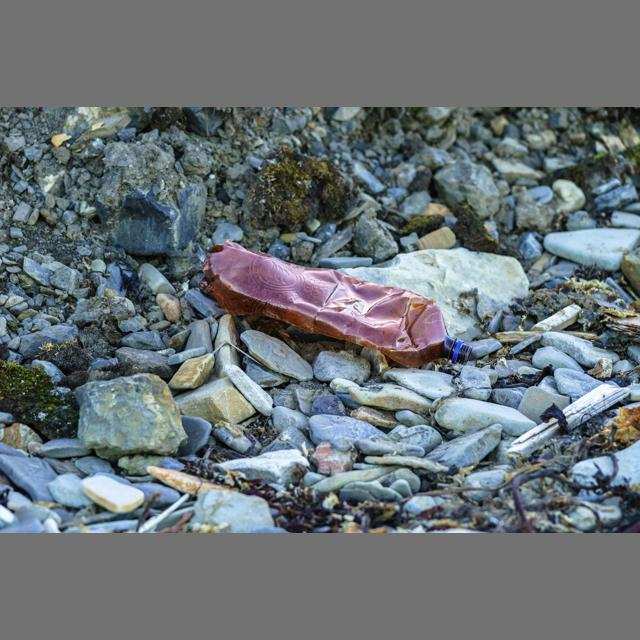litter: (198, 240, 473, 370)
